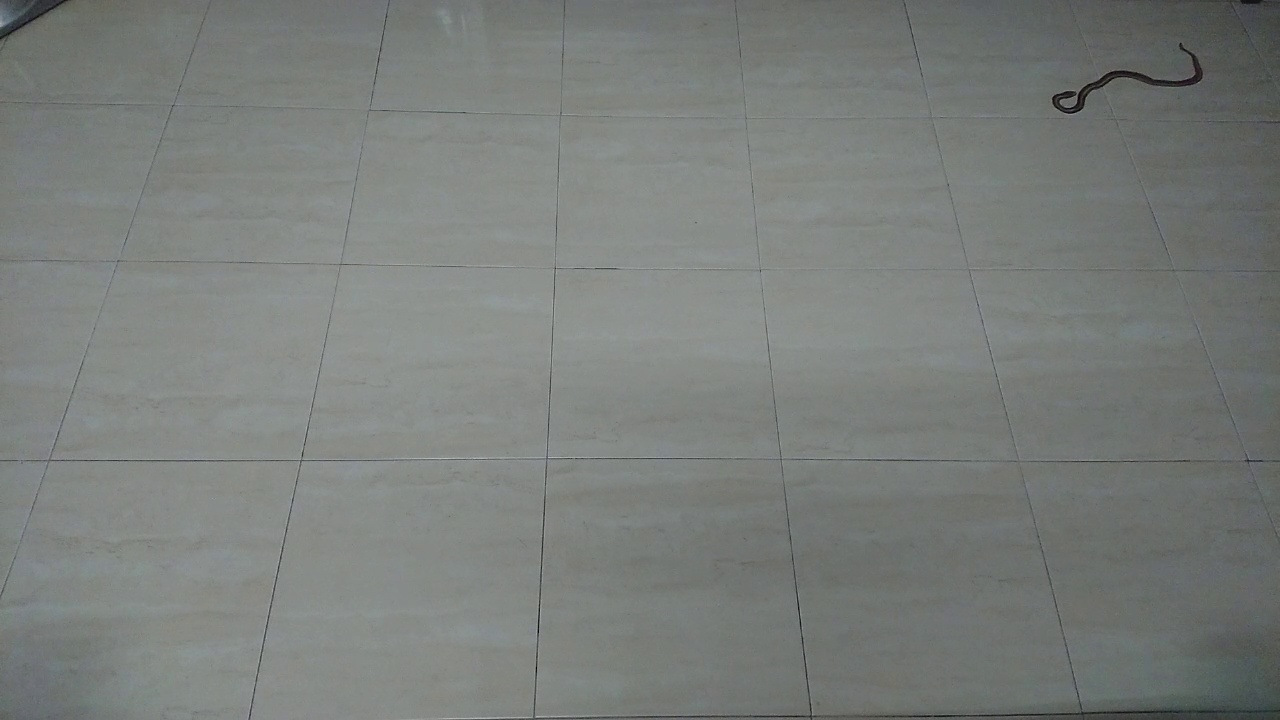snake: (1039, 37, 1212, 122)
